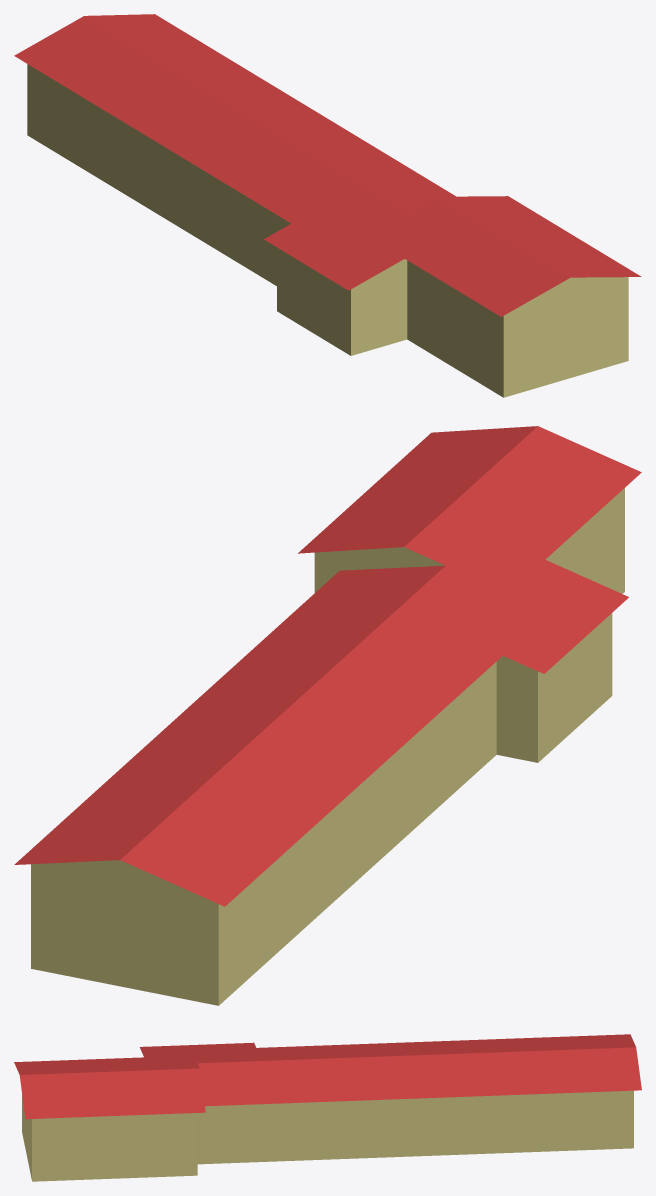
3 renders of one model, top to bottom at view 1: azimuth 30°, elevation 25°; view 2: azimuth 150°, elevation 25°; view 3: azimuth 270°, elevation 25°, orthographic. The views are drawn at different scales.
Size of the model in its own units: 21.6 by 63.71 by 9.14.
